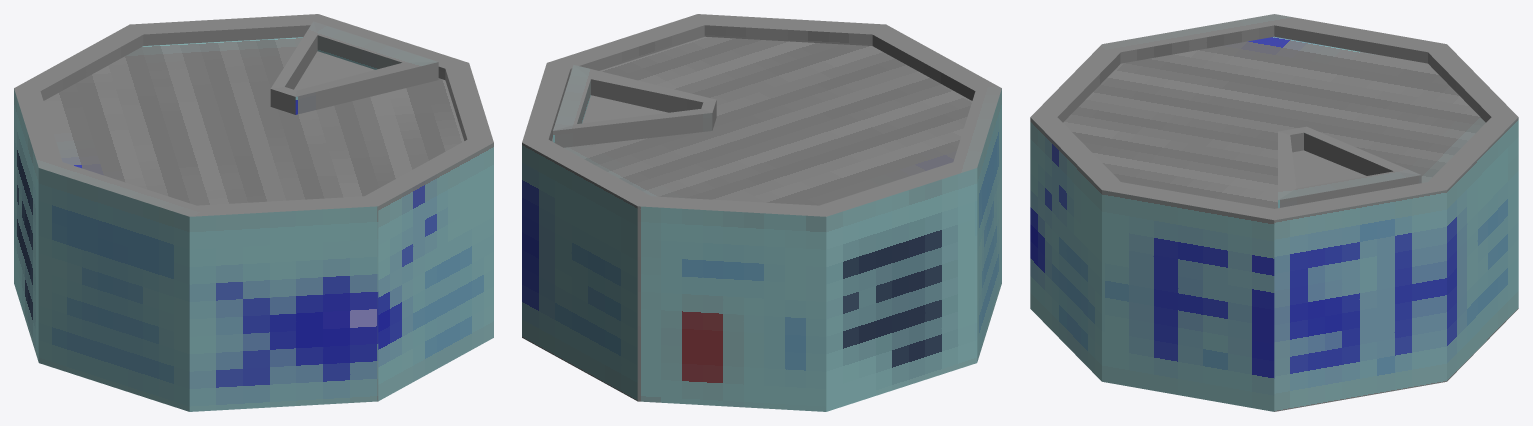
Rendered from canned_fish.glb.
3 renders of one model, left to right at view 1: azimuth 30°, elevation 25°; view 2: azimuth 150°, elevation 25°; view 3: azimuth 270°, elevation 25°, orthographic.
Parts seen in each view (by area): view 1: Cylinder.003; view 2: Cylinder.003; view 3: Cylinder.003.
Part boxes in pixels (box(x1,y1,x2,y2)): Cylinder.003: box(14, 14, 493, 411); Cylinder.003: box(522, 14, 1001, 411); Cylinder.003: box(1030, 14, 1518, 411).
Size of the model in its own units: 1.18 by 0.5291 by 1.18.
Materials: 1 (1 with a texture image).
